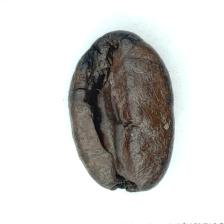NG: (74, 30, 148, 155)
